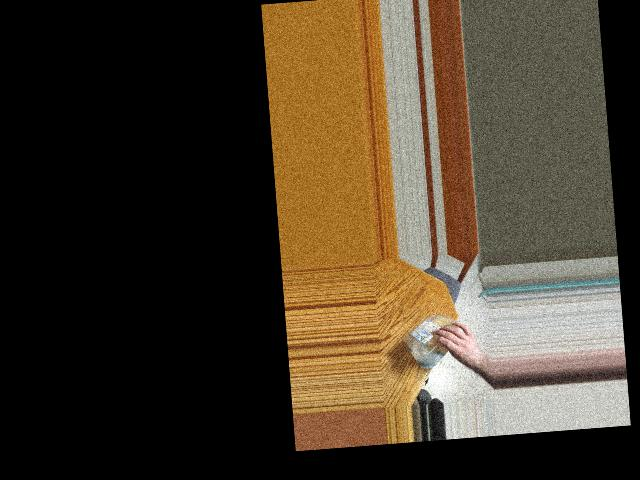cheese: (402, 311, 470, 368)
